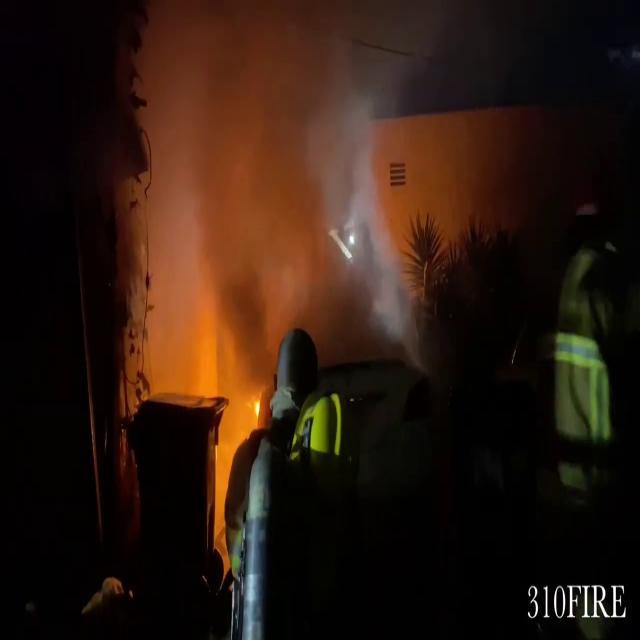Smoke: (99, 1, 509, 376)
